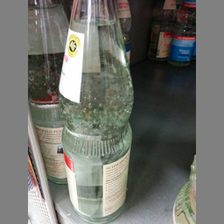water: (57, 1, 137, 219)
